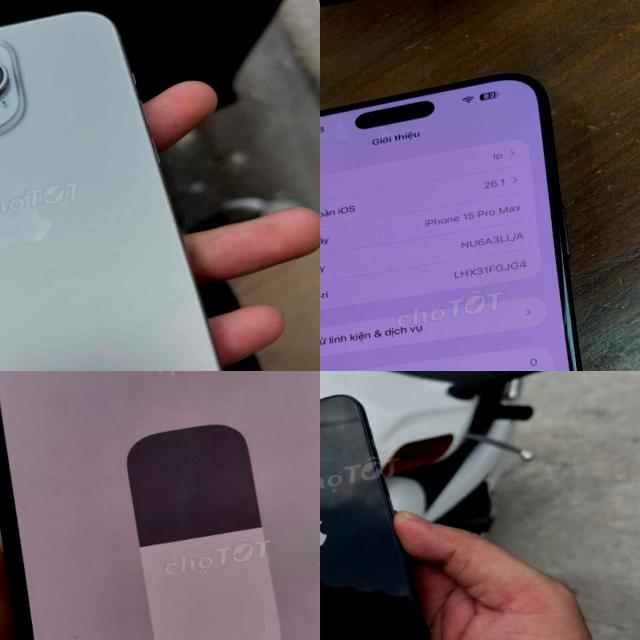gen_12_13: (0, 371, 320, 640), (320, 377, 447, 640)
gen_15: (320, 50, 638, 371), (0, 0, 246, 371)
